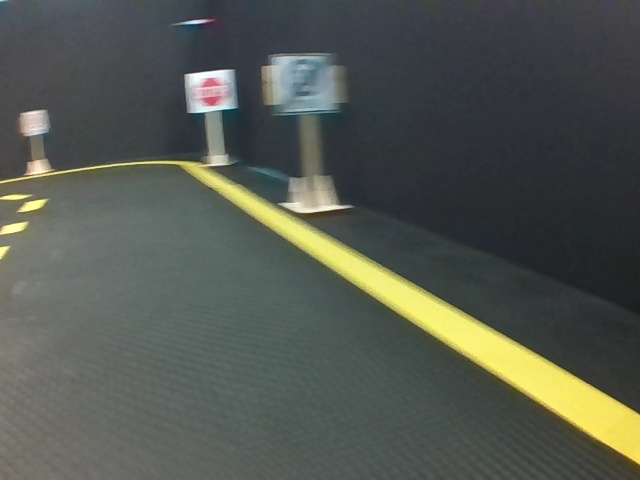30: (22, 110, 44, 135)
no30: (274, 55, 338, 113)
stop: (186, 73, 234, 109)
